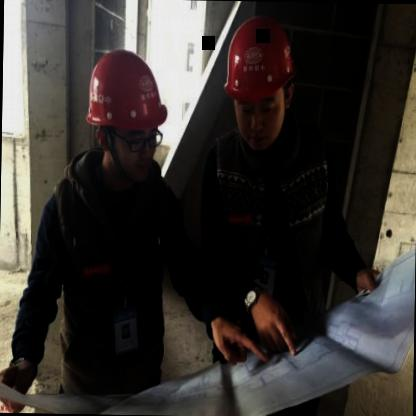helmet: (78, 35, 174, 186), (219, 10, 305, 152)
